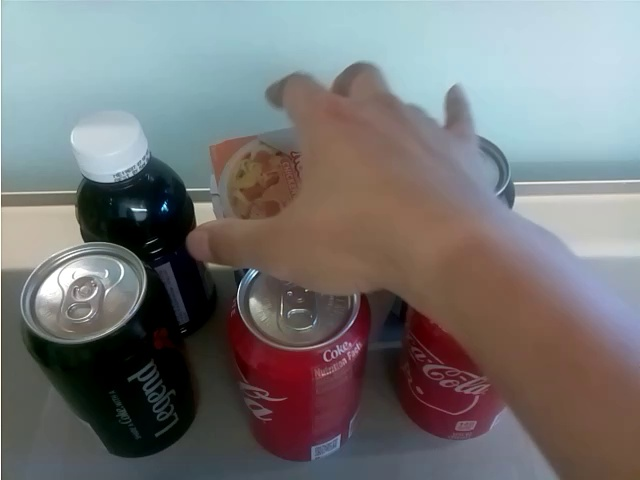cocacola: (229, 265, 369, 465), (396, 306, 510, 444)
cocacola-zero: (16, 239, 202, 460)
hand: (180, 62, 500, 297)
juice: (71, 106, 219, 343)
noodles: (196, 115, 305, 220)
